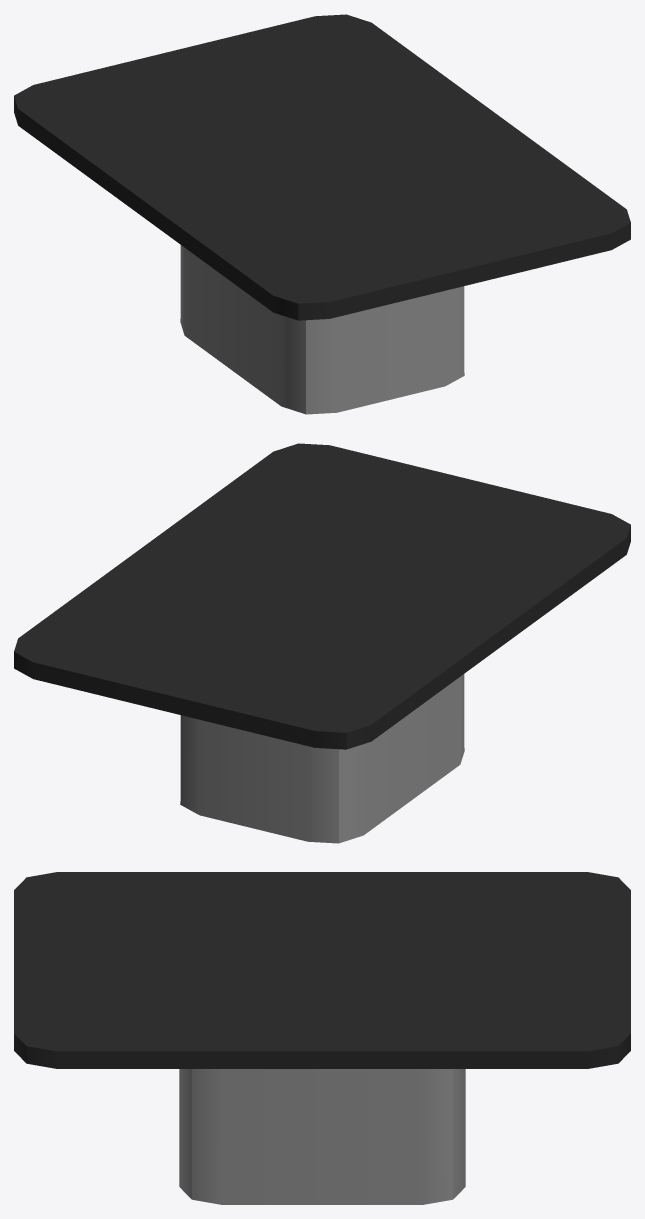
Rendered from Table_01.fbx.
3 views of the same model, one above another, from view 1: azimuth 30°, elevation 25°; view 2: azimuth 150°, elevation 25°; view 3: azimuth 270°, elevation 25° (orthographic). The views are drawn at different scales.
Parts seen in each view (by area): view 1: pCube3; view 2: pCube3; view 3: pCube3.
Part boxes in pixels (box(x1,y1,x2,y2)): pCube3: box(14, 14, 630, 414); pCube3: box(14, 443, 630, 843); pCube3: box(14, 872, 630, 1204).
Size of the model in its own units: 417 by 214 by 606.
